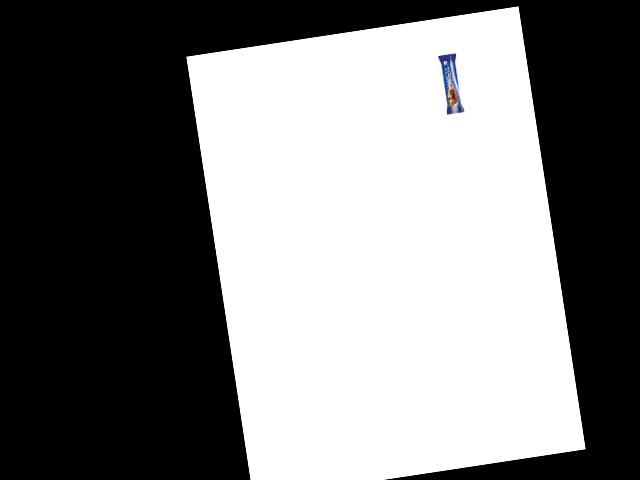chocolate: (432, 51, 466, 123)
